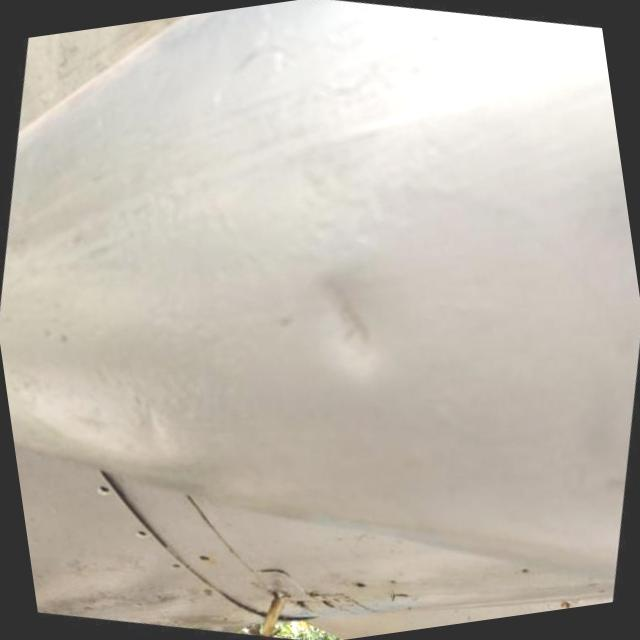dent: (290, 249, 396, 393)
